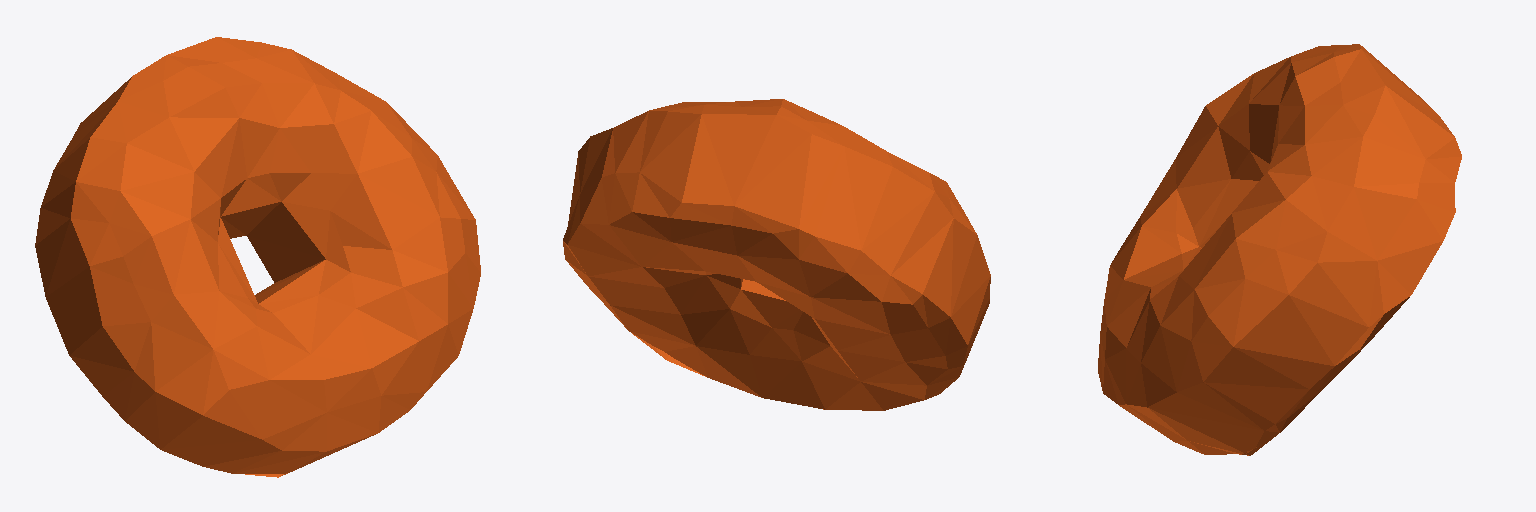
File: donut.obj
3 renders of one model, left to right at view 1: azimuth 30°, elevation 25°; view 2: azimuth 150°, elevation 25°; view 3: azimuth 270°, elevation 25°, orthographic.
Parts seen in each view (by area): view 1: donut; view 2: donut; view 3: donut.
Part boxes in pixels (x1,y1,x2,y2): donut: (35,37,480,477); donut: (563,99,990,410); donut: (1098,44,1461,455).
Size of the model in its own units: 0.1779 by 0.1582 by 0.1429.